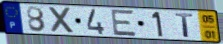1: (151, 11, 165, 38)
4: (86, 8, 106, 36)
8: (25, 6, 47, 33)
E: (111, 9, 139, 38)
T: (174, 12, 195, 39)
X: (47, 6, 76, 35)
